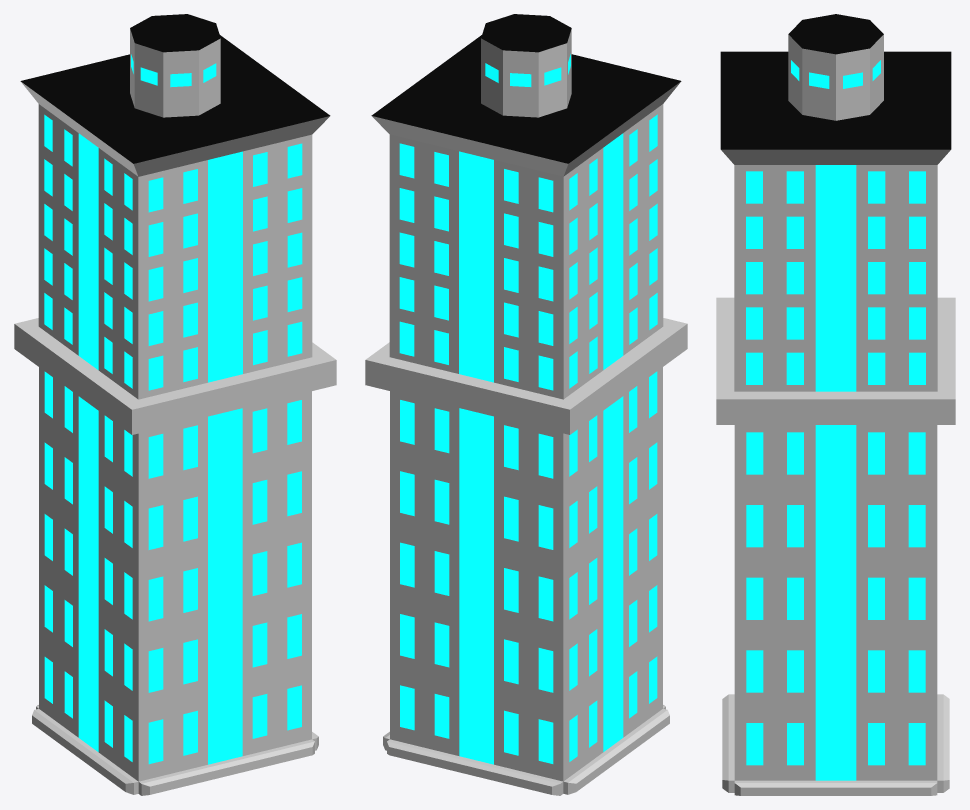
Rendered from gameTowerSix.fbx.
3 views of the same model, side by side, from view 1: azimuth 30°, elevation 25°; view 2: azimuth 150°, elevation 25°; view 3: azimuth 270°, elevation 25° (orthographic).
Parts seen in each view (by area): view 1: Cube; view 2: Cube; view 3: Cube.
Part boxes in pixels (bbox=[...]): Cube: bbox=[14, 14, 336, 795]; Cube: bbox=[365, 14, 687, 795]; Cube: bbox=[716, 14, 955, 795].
Size of the model in its own units: 1214 by 1220 by 4006.
